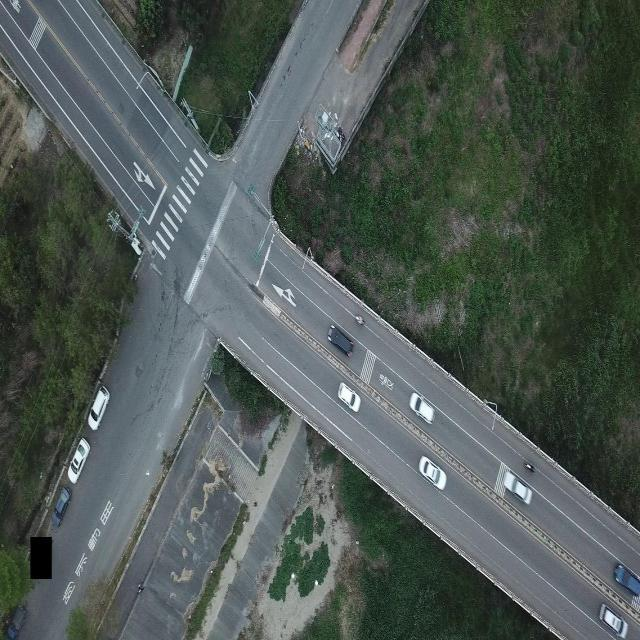bike: (524, 458, 536, 474), (355, 314, 364, 325)
car: (87, 384, 110, 431), (67, 437, 90, 484), (599, 603, 628, 639), (418, 455, 447, 491), (503, 468, 532, 504), (327, 323, 354, 356), (614, 562, 640, 595), (51, 485, 71, 527), (409, 392, 435, 424), (337, 381, 361, 413), (7, 604, 26, 639)
